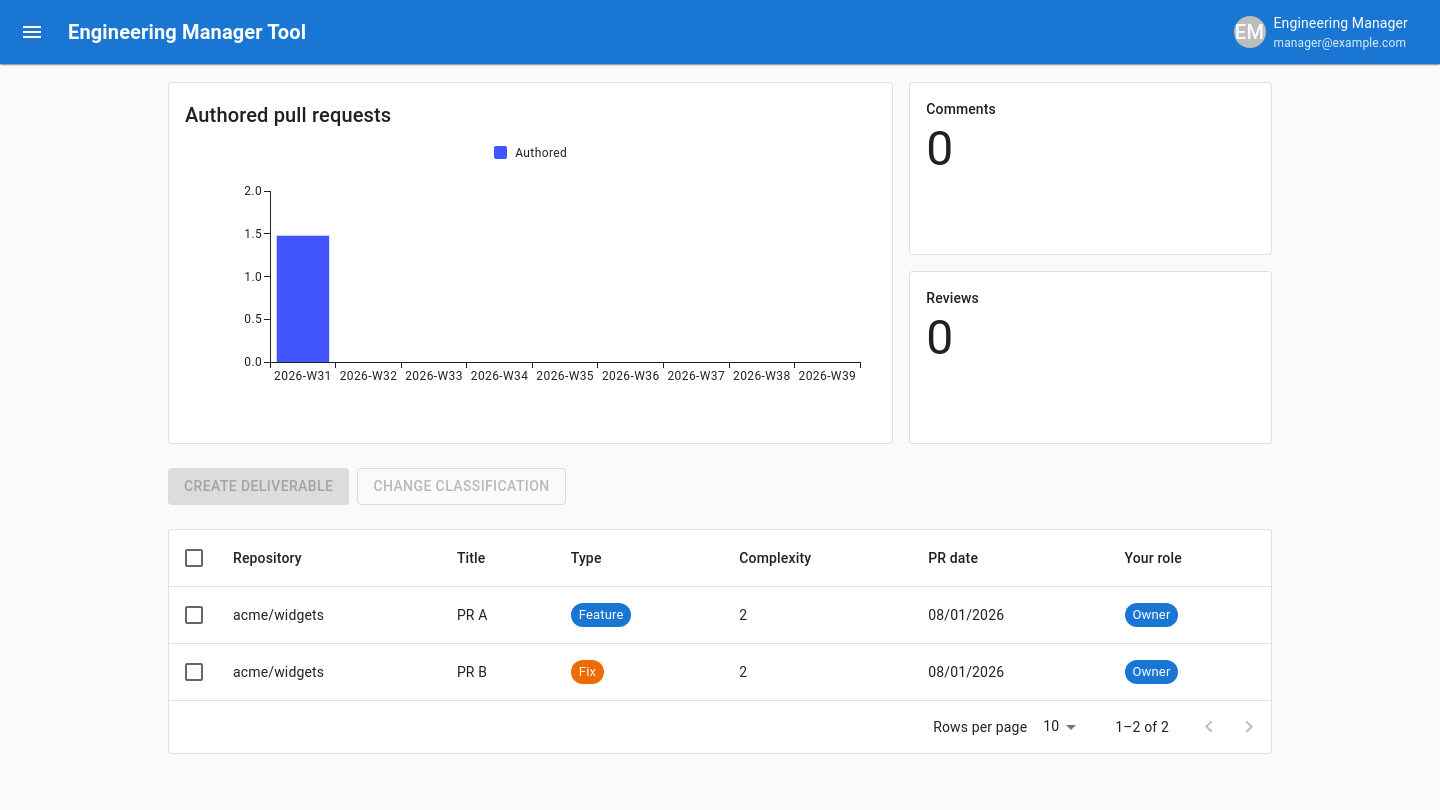
Scenario: PR reclassification UI › keeps Change Classification visible, enables after selecting rows, and saves via modal
(page scrolled)
Check: the text "PR A" is shown, box x1=441 y1=586 x2=555 y2=643
Check: the button with test id "change-classification-button" is disabled, box x1=357 y1=468 x2=566 y2=505
Click the checkbox named "Select pull request".
click(194, 615)  # box x1=182 y1=603 x2=206 y2=627
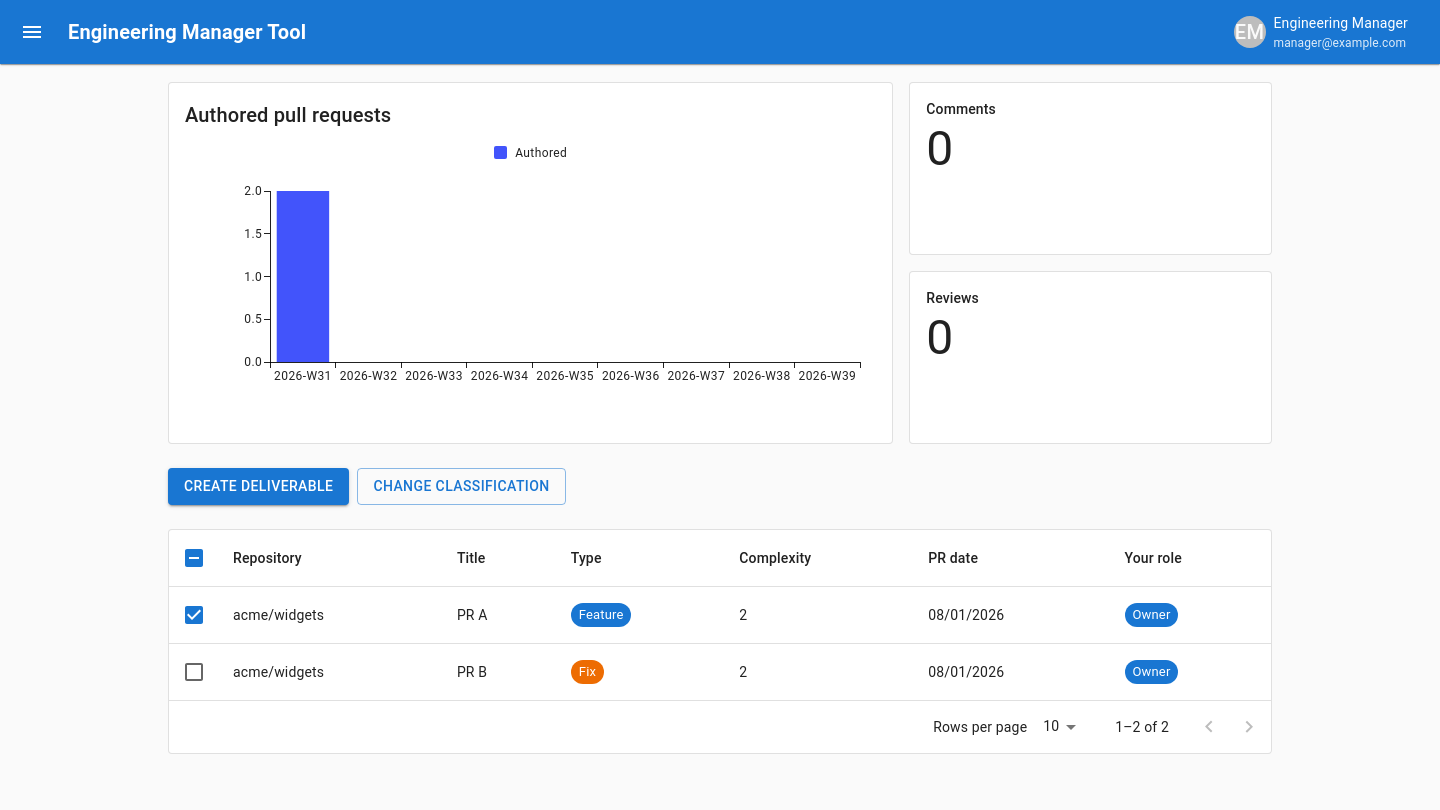
Check: the button with test id "change-classification-button" is enabled
Click the button with test id "change-classification-button".
click(462, 487)  # box x1=357 y1=468 x2=566 y2=505
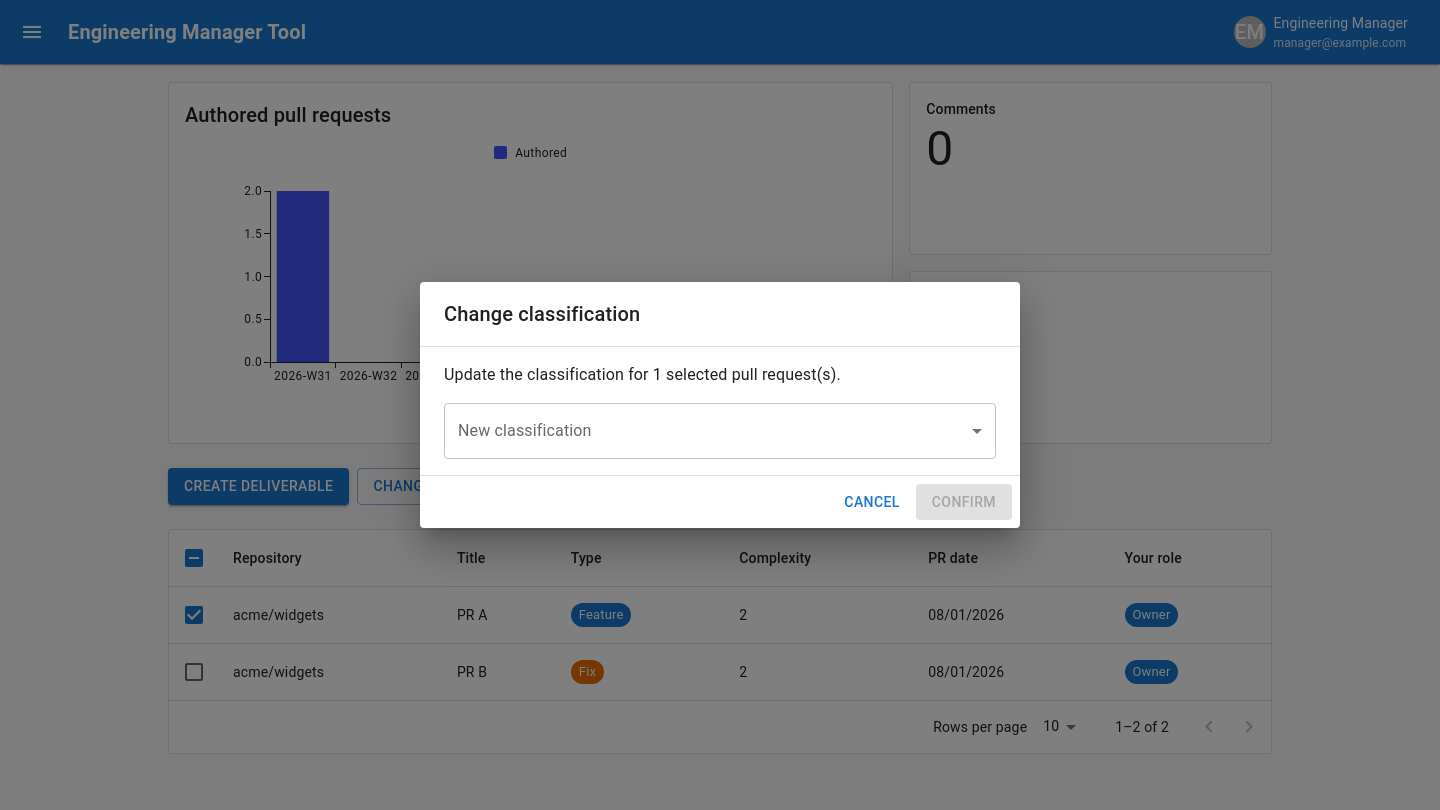
Check: the element with test id "change-classification-modal" is shown
Check: the element with test id "reclassify-type-select" is shown
Press the mouse on the dropdown named "New classification" at {"x": 720, "y": 431}, box x1=444 y1=403 x2=996 y2=459
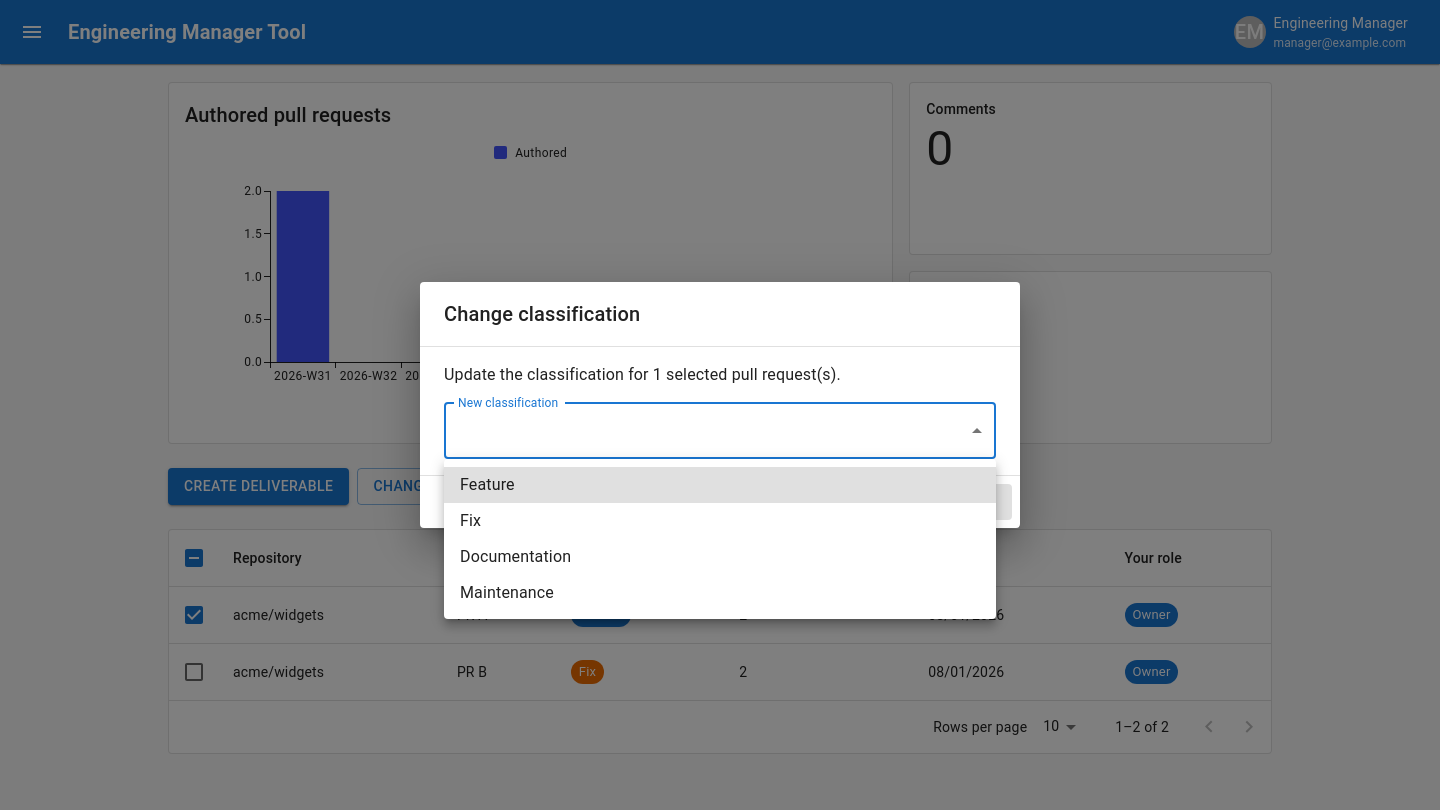
Click the option "Documentation".
click(516, 556)  # box x1=460 y1=547 x2=571 y2=566
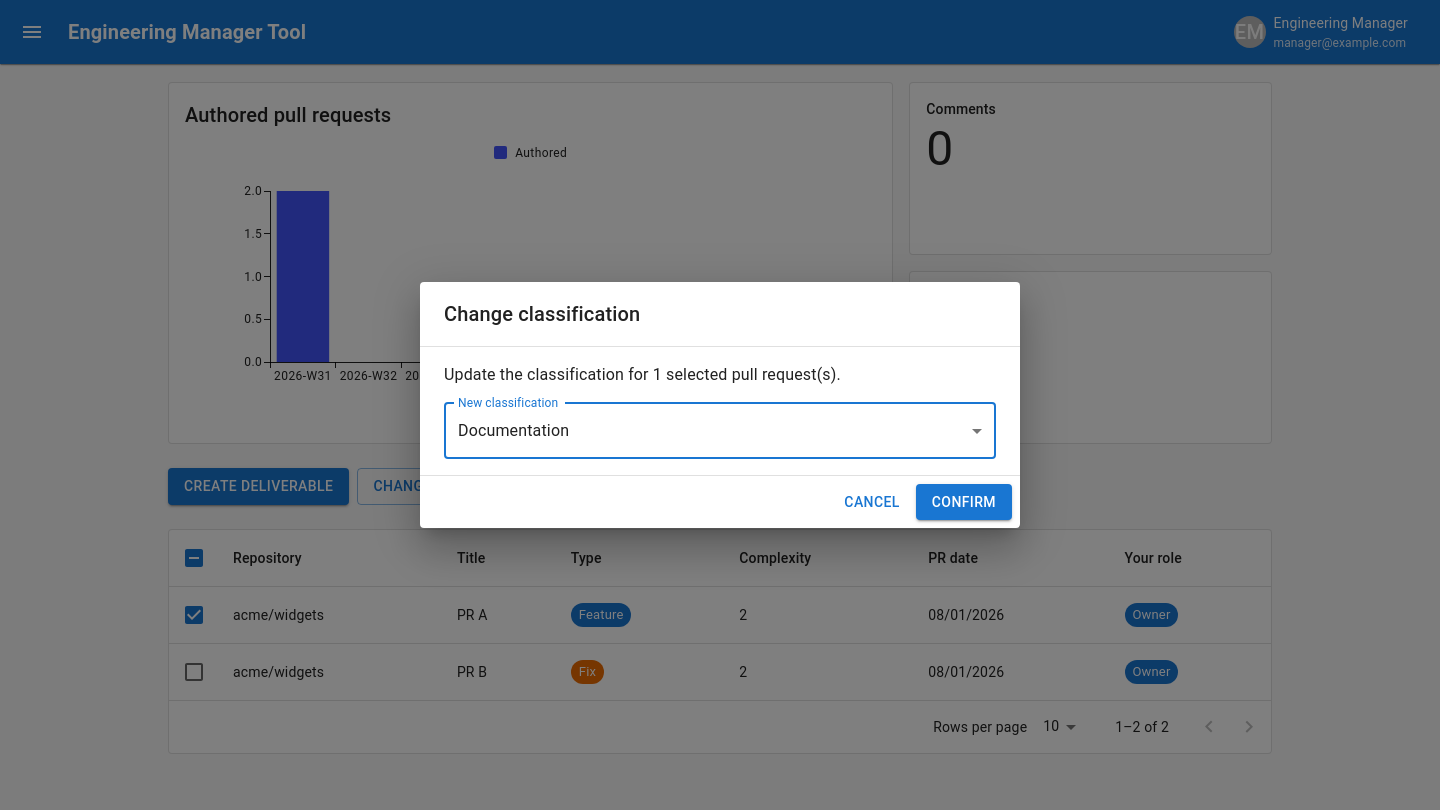
Click the button with test id "reclassify-confirm".
click(964, 502)  # box x1=916 y1=484 x2=1012 y2=520
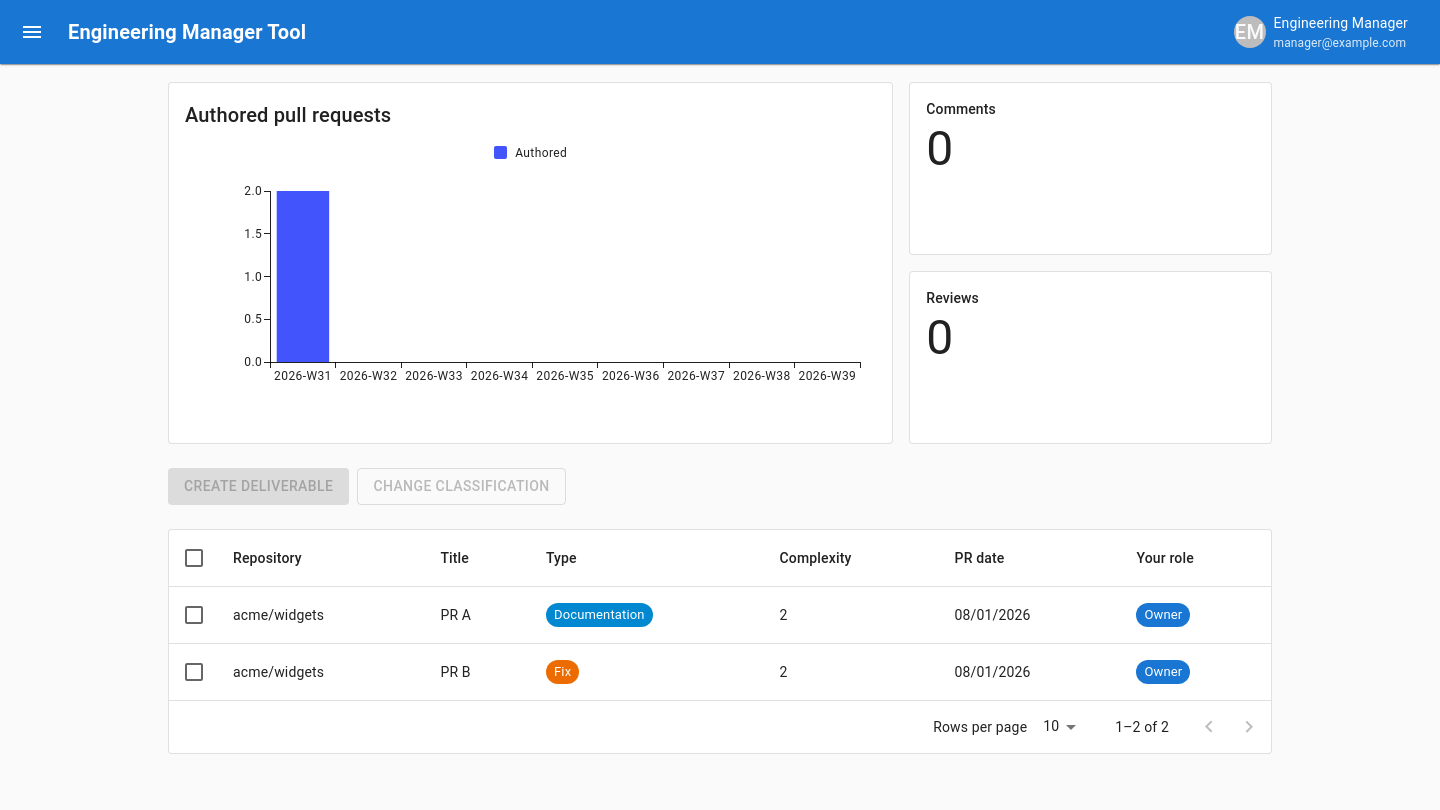
Check: the element with test id "change-classification-modal" is gone
Check: the element with test id "pr-classification-pr-a" reads "Documentation", box x1=554 y1=607 x2=645 y2=622
Check: the button with test id "change-classification-button" is disabled, box x1=357 y1=468 x2=566 y2=505
